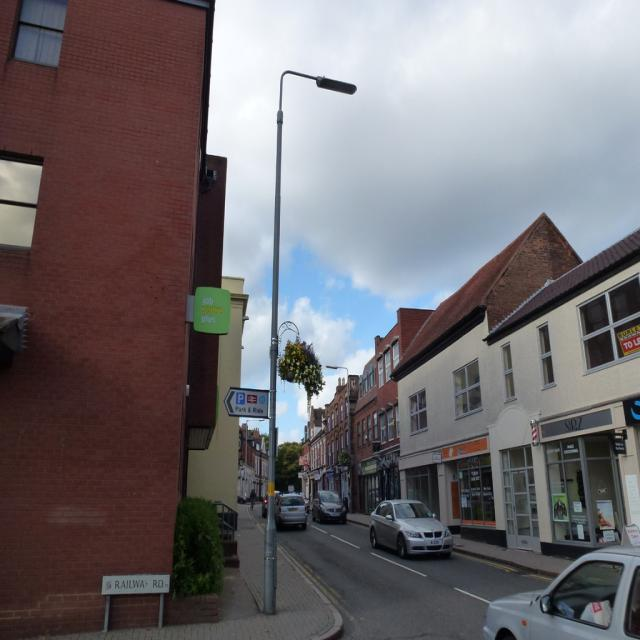car: (373, 504, 461, 565), (310, 486, 348, 519)
